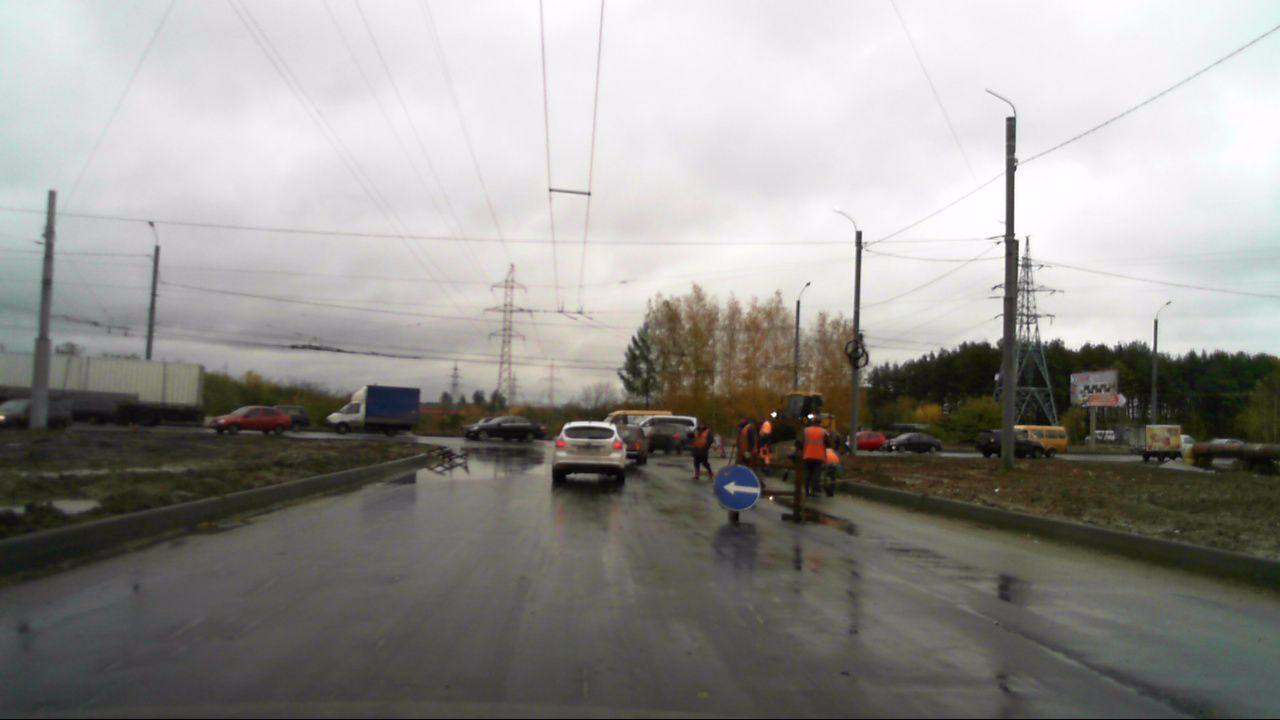Turn Left: (714, 465, 760, 511)
